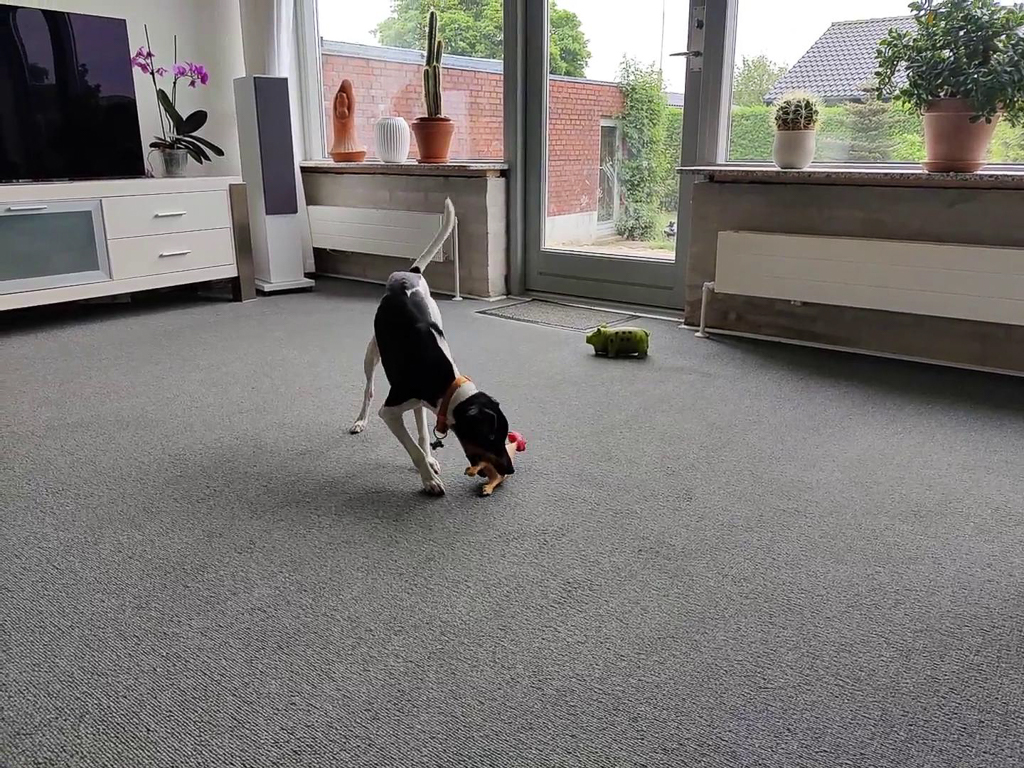Dog: (343, 193, 527, 501)
Humanoid: (326, 77, 372, 156), (658, 217, 679, 241)
